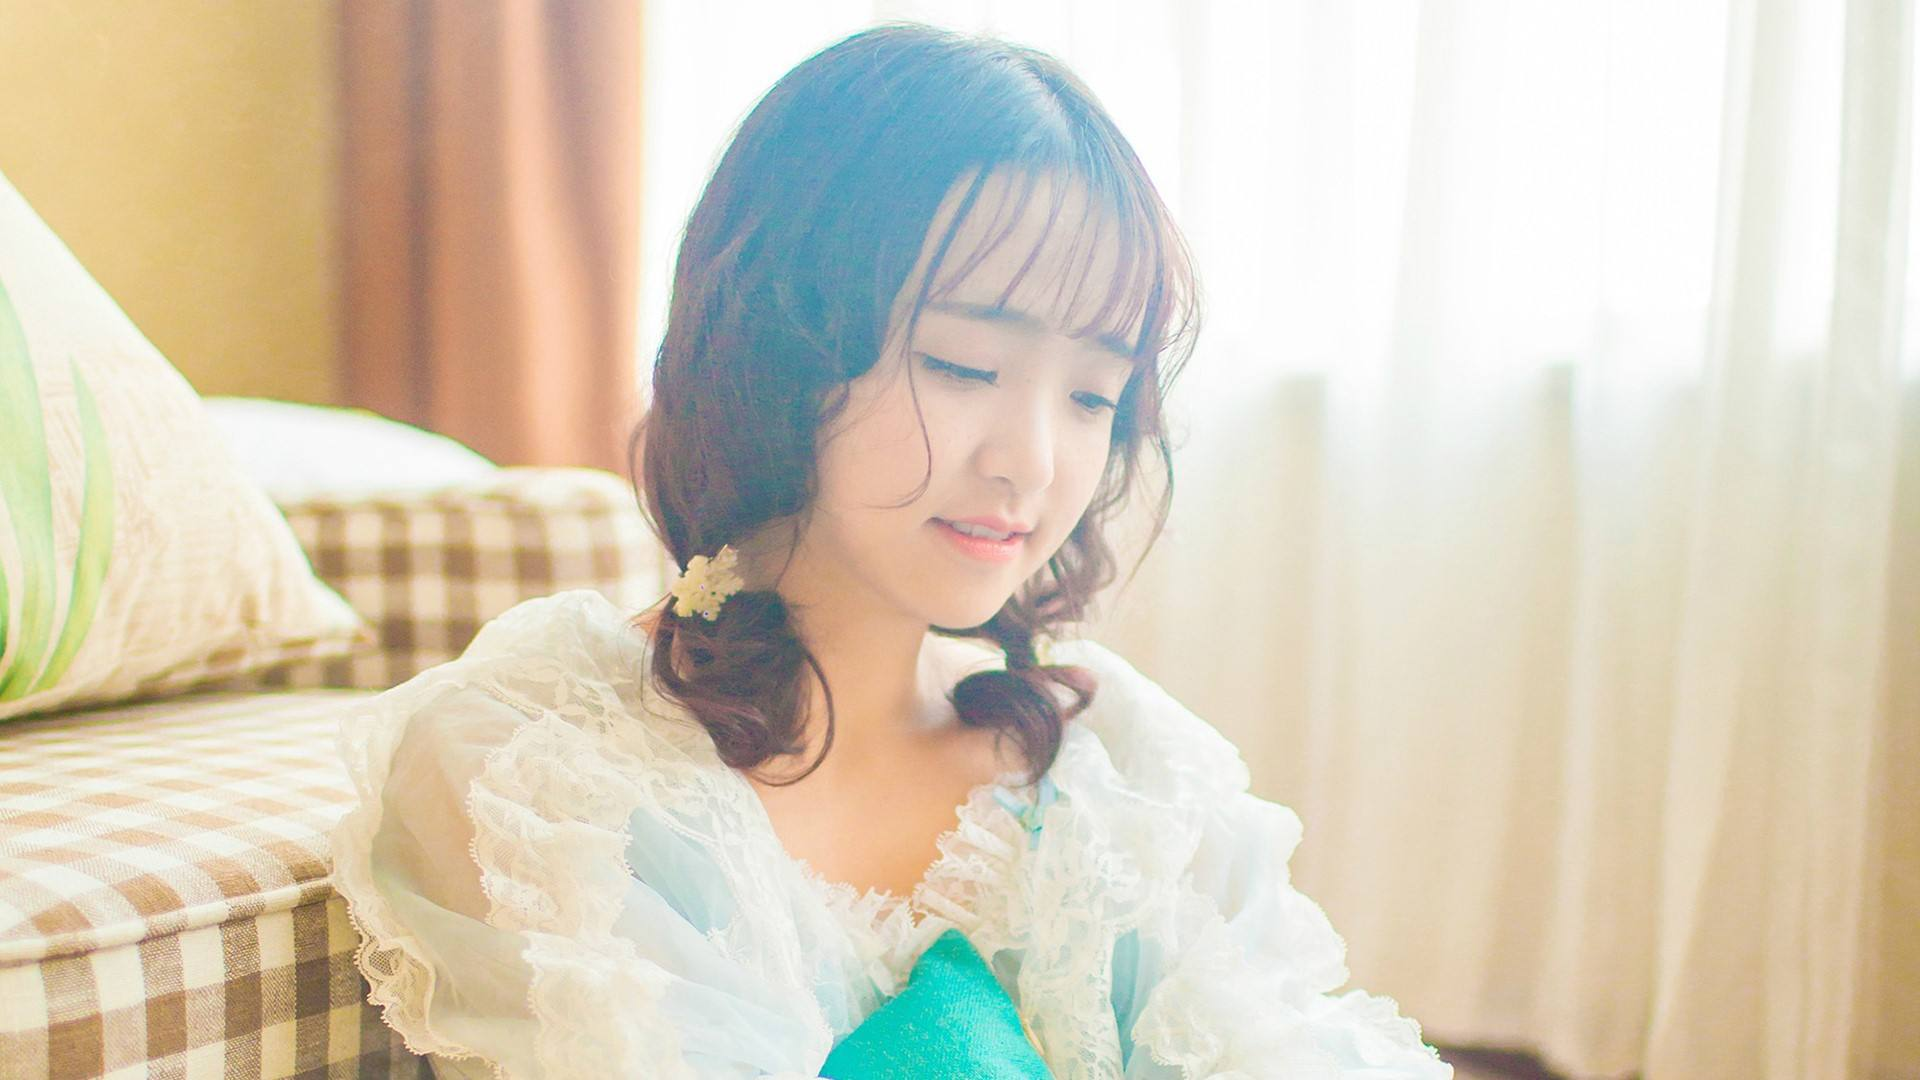person: (451, 32, 1466, 1012)
